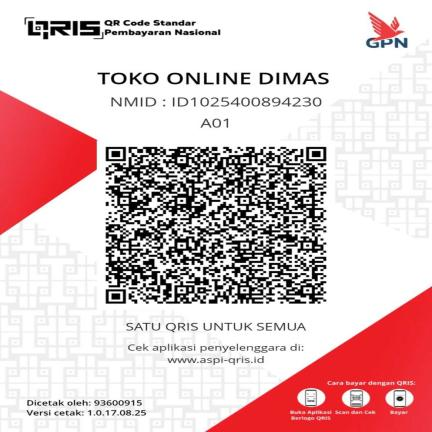Barcode_Asli: (96, 138, 336, 310)
